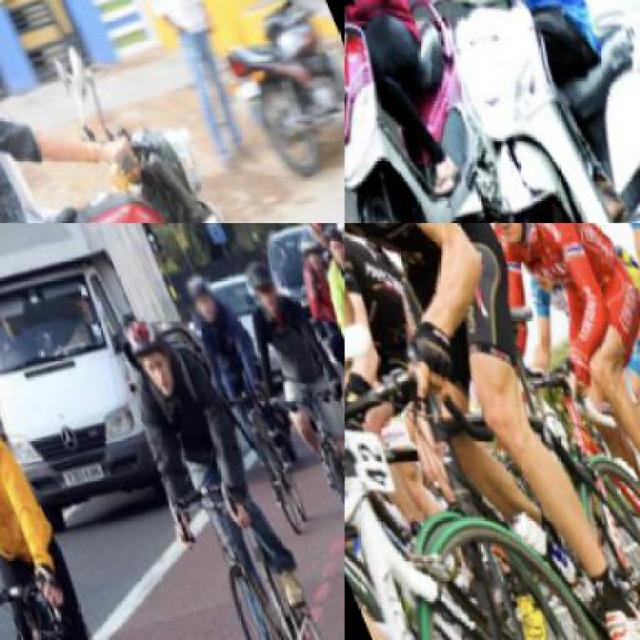With Helmet: (111, 308, 186, 401), (234, 247, 288, 318), (172, 265, 226, 329), (443, 223, 549, 254), (291, 223, 332, 275), (312, 223, 343, 269)
